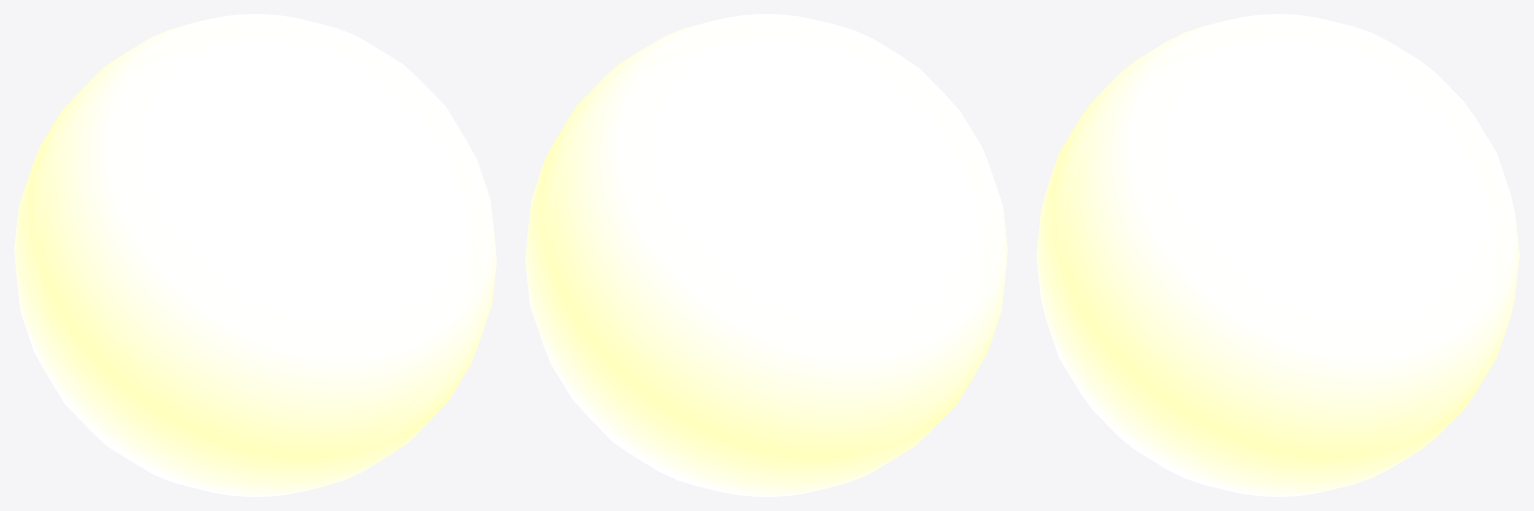
Rendered from orb-holy.glb.
3 views of the same model, side by side, from view 1: azimuth 30°, elevation 25°; view 2: azimuth 150°, elevation 25°; view 3: azimuth 270°, elevation 25° (orthographic).
Parts seen in each view (by area): view 1: orb-holy; view 2: orb-holy; view 3: orb-holy.
Boxes of the visible parts, left/top/right/bottom form: orb-holy: left=14, top=14, right=496, bottom=496; orb-holy: left=525, top=14, right=1007, bottom=496; orb-holy: left=1036, top=14, right=1519, bottom=496.
Bounding box in the file's own units: 1.31 × 1.31 × 1.31.
